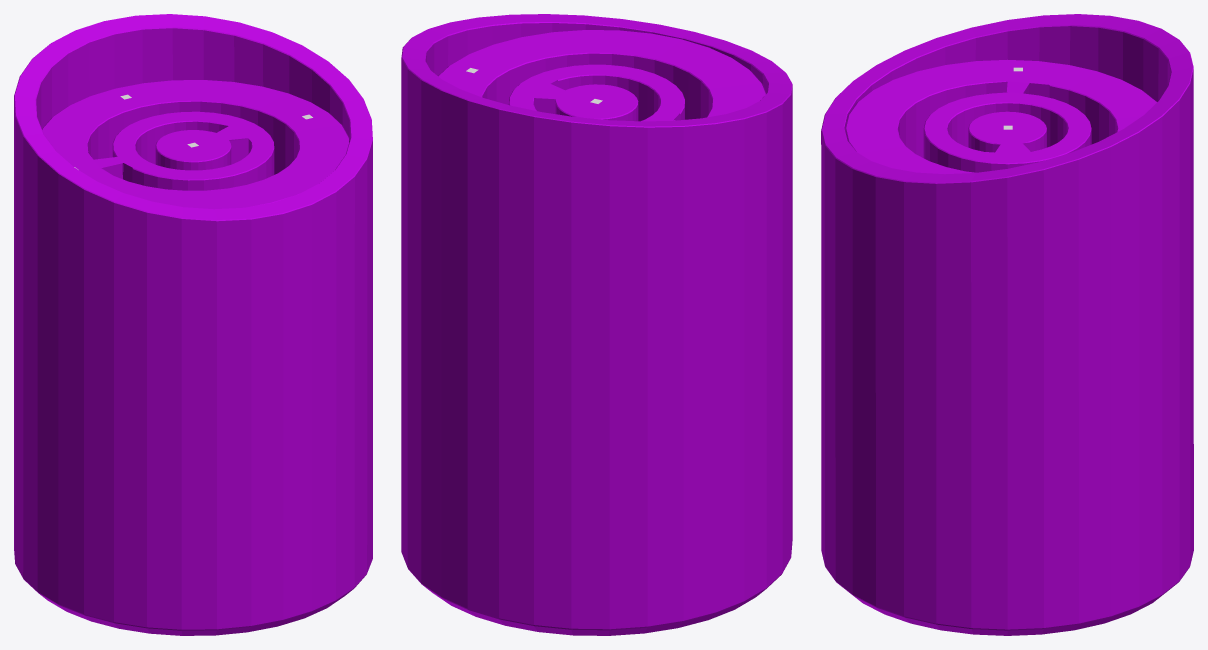
The model's file is level-06.glb.
3 views of the same model, side by side, from view 1: azimuth 30°, elevation 25°; view 2: azimuth 150°, elevation 25°; view 3: azimuth 270°, elevation 25° (orthographic). The views are drawn at different scales.
Parts seen in each view (by area): view 1: Cylinder; view 2: Cylinder; view 3: Cylinder.
Boxes of the visible parts, left/top/right/bottom form: Cylinder: left=14, top=14, right=372, bottom=635; Cylinder: left=401, top=14, right=792, bottom=635; Cylinder: left=821, top=14, right=1193, bottom=635.
Size of what is drawn, in the model's own units: 81.9 by 120 by 81.95.
